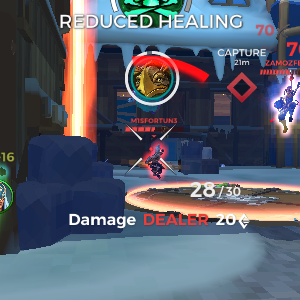model: (271, 74, 300, 141), (144, 142, 168, 180)
